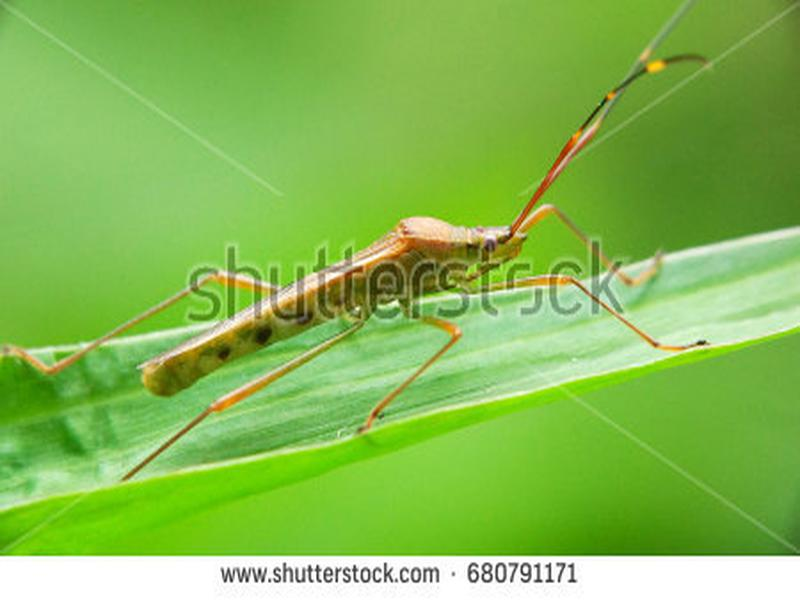Rice_earhead_bug: (115, 168, 621, 442)
